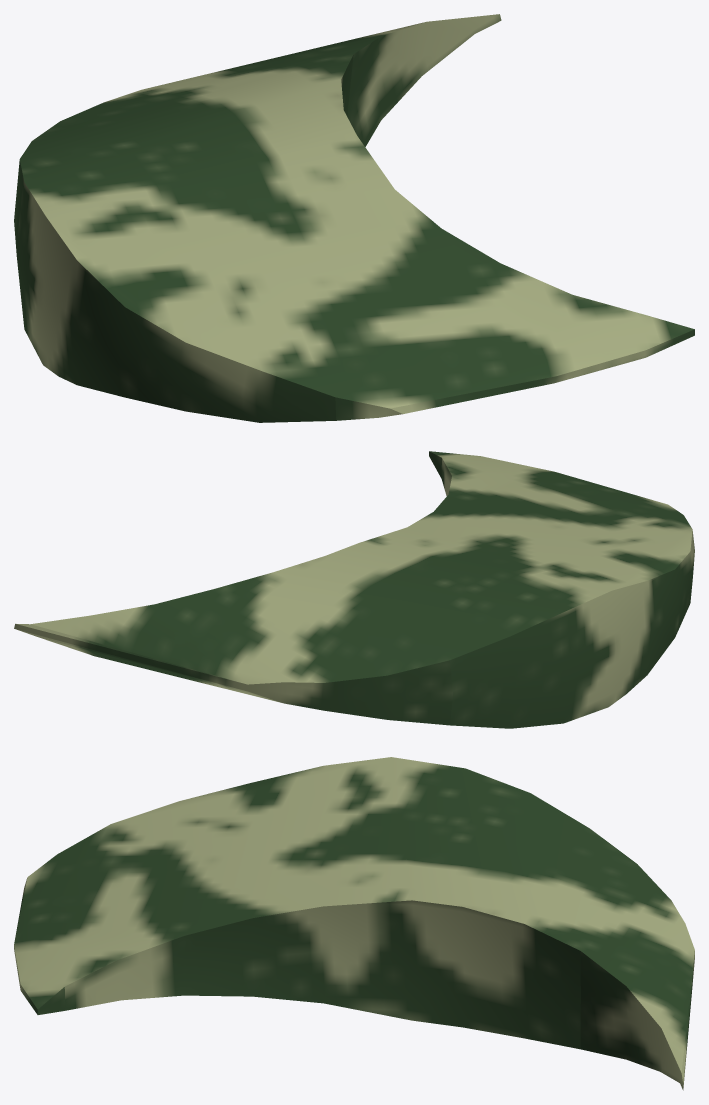
The model's file is link_body_33_composite.obj.
3 views of the same model, one above another, from view 1: azimuth 30°, elevation 25°; view 2: azimuth 150°, elevation 25°; view 3: azimuth 270°, elevation 25° (orthographic). The views are drawn at different scales.
Visible parts, largest first — view 1: link_body_33; view 2: link_body_33; view 3: link_body_33.
Part boxes in pixels (x1,y1,x2,y2): link_body_33: [14, 14, 694, 422]; link_body_33: [14, 451, 694, 728]; link_body_33: [14, 757, 694, 1090].
Bounding box in the file's own units: 8.13 × 1.85 × 8.65.
Materials: 1 (1 with a texture image).
